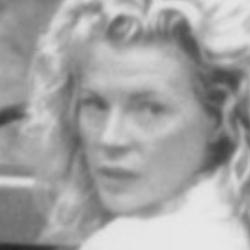face: (13, 1, 244, 219)
